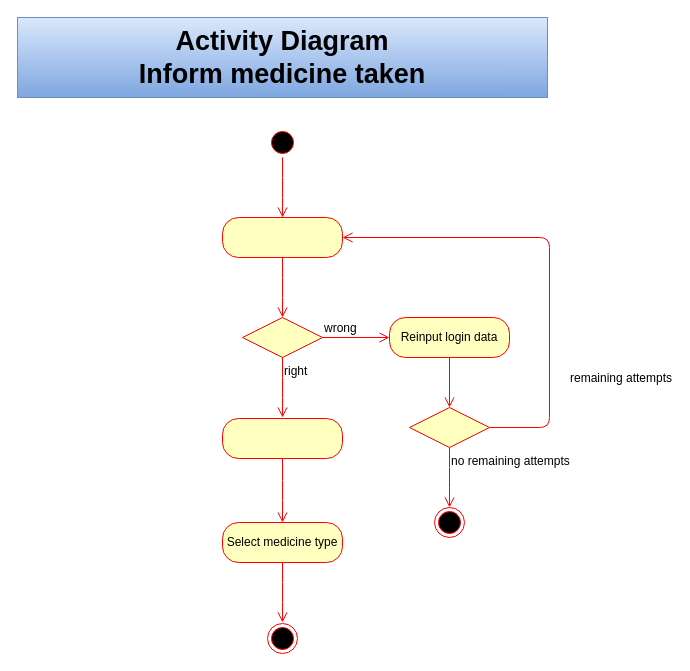
Some shapes in this 690 by 671 pixel diagram are drawn without their labels. The centre of each missing label's shape, as x and y in pixels:
Input user id and password: pixel 282 237
Select inform medicine: pixel 282 438
